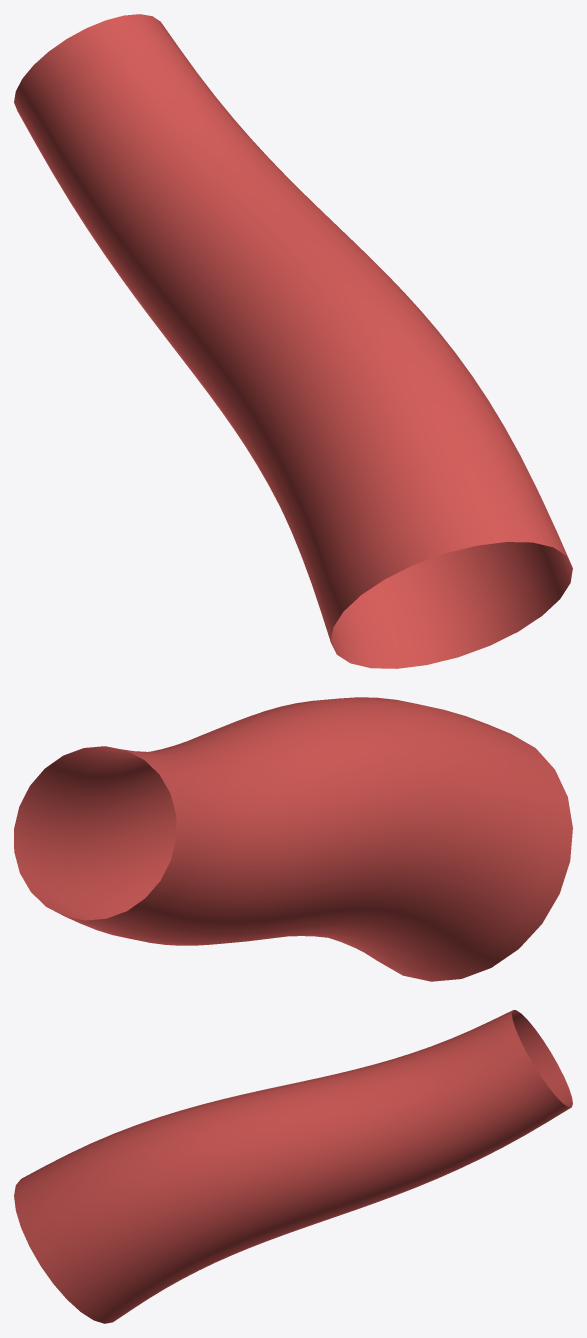
3 renders of one model, top to bottom at view 1: azimuth 30°, elevation 25°; view 2: azimuth 150°, elevation 25°; view 3: azimuth 270°, elevation 25°, orthographic. The views are drawn at different scales.
Visible parts, largest first — view 1: 左侧髂内动脉前干; view 2: 左侧髂内动脉前干; view 3: 左侧髂内动脉前干.
Boxes of the visible parts, left/top/right/bottom form: 左侧髂内动脉前干: left=14, top=14, right=572, bottom=668; 左侧髂内动脉前干: left=14, top=697, right=572, bottom=981; 左侧髂内动脉前干: left=14, top=1010, right=572, bottom=1323.
Bounding box in the file's own units: 0.00853 × 0.016 × 0.0277.
